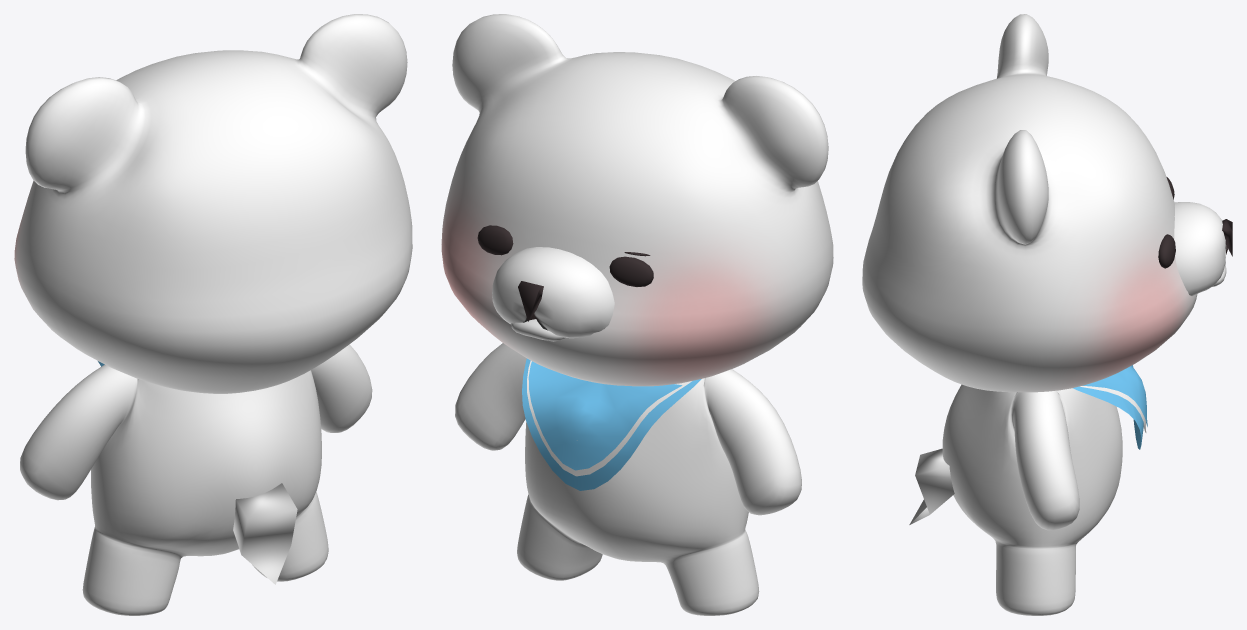
The model's file is punyakuma.glb.
3 views of the same model, side by side, from view 1: azimuth 30°, elevation 25°; view 2: azimuth 150°, elevation 25°; view 3: azimuth 270°, elevation 25° (orthographic). The views are drawn at different scales.
Visible parts, largest first — view 1: Cube.002, Cube.001, 尻尾; view 2: Cube.002, Cube.001, 平面.002, 口周り, 平面, 平面.001, 右目, 左目, 鼻, 下唇; view 3: Cube.002, Cube.001, 口周り, 尻尾, 平面.002, 平面.
Boxes of the visible parts, box(x1,y1,x2,y2) form: Cube.002: box(14, 14, 412, 393); Cube.001: box(20, 344, 372, 615); 尻尾: box(233, 483, 297, 584); Cube.002: box(441, 14, 833, 386); Cube.001: box(455, 343, 801, 615); 平面.002: box(528, 361, 682, 470); 口周り: box(492, 247, 614, 338); 平面: box(522, 358, 701, 490); 平面.001: box(527, 360, 691, 476); 右目: box(609, 256, 653, 286); 左目: box(477, 225, 513, 255); 鼻: box(518, 281, 543, 321); 下唇: box(511, 319, 565, 341); Cube.002: box(862, 14, 1197, 392); Cube.001: box(942, 384, 1122, 615); 口周り: box(1174, 202, 1227, 295); 尻尾: box(909, 448, 954, 524); 平面.002: box(1082, 365, 1147, 426); 平面: box(1073, 386, 1143, 449).
Size of the model in its own units: 1.99 by 2.72 by 1.84.
3 materials, 2 textured.
